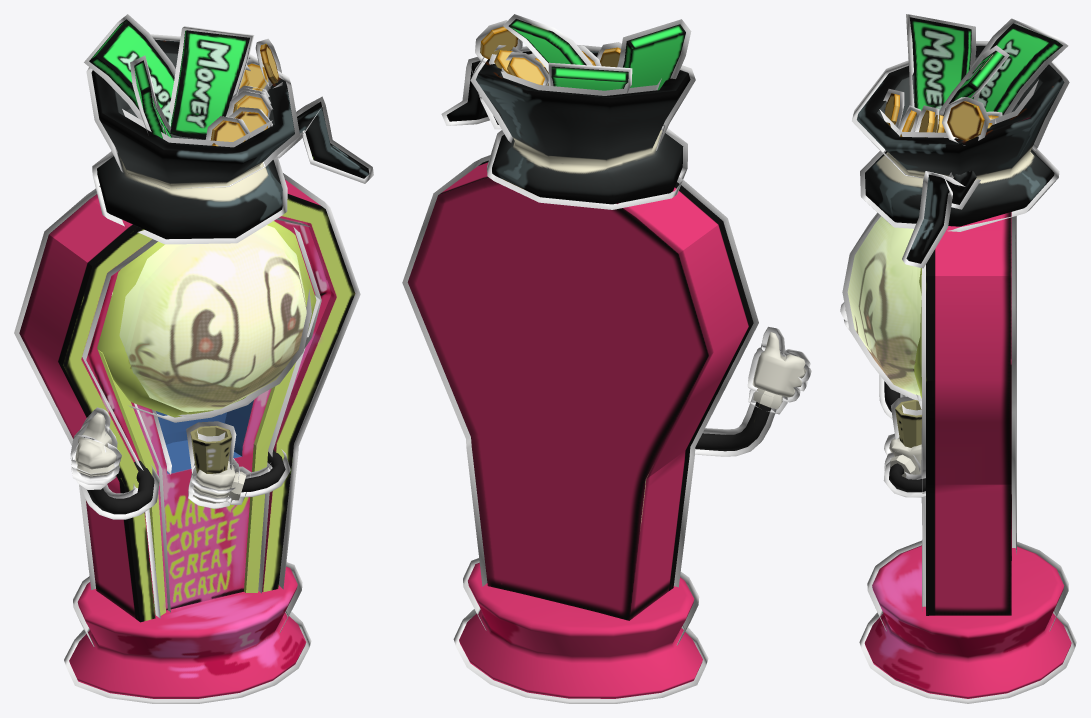
Rendered from Machinewsign.glb.
3 renders of one model, left to right at view 1: azimuth 30°, elevation 25°; view 2: azimuth 150°, elevation 25°; view 3: azimuth 270°, elevation 25°, orthographic. The views are drawn at different scales.
Parts seen in each view (by area): view 1: SM_Machine; view 2: SM_Machine; view 3: SM_Machine.
Part boxes in pixels (box(x1,y1,x2,y2)): SM_Machine: box(14, 14, 373, 703); SM_Machine: box(402, 14, 811, 703); SM_Machine: box(840, 14, 1076, 703).
Bounding box in the file's own units: 0.0382 × 0.069 × 0.0241.
2 materials, 1 textured.
